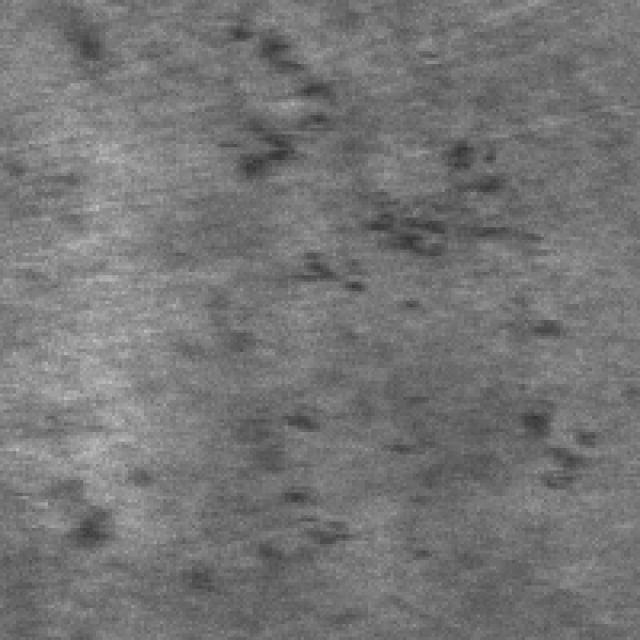rolled-in_scale: (256, 125, 557, 336), (218, 397, 432, 608), (208, 0, 336, 186)
